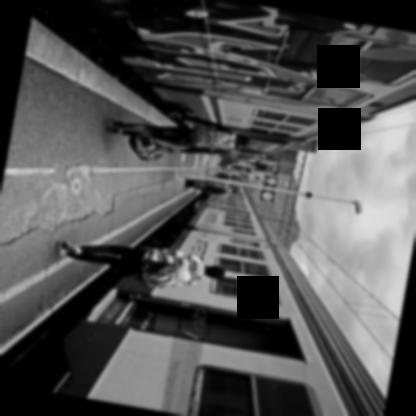backpack: (184, 123, 236, 150), (141, 263, 189, 286), (206, 185, 230, 194)
handbag: (127, 135, 178, 161)
suitcase: (184, 178, 207, 189)
